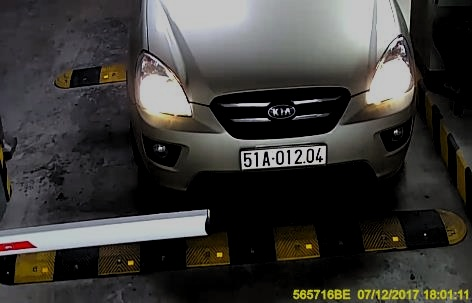plate: (234, 140, 330, 174)
